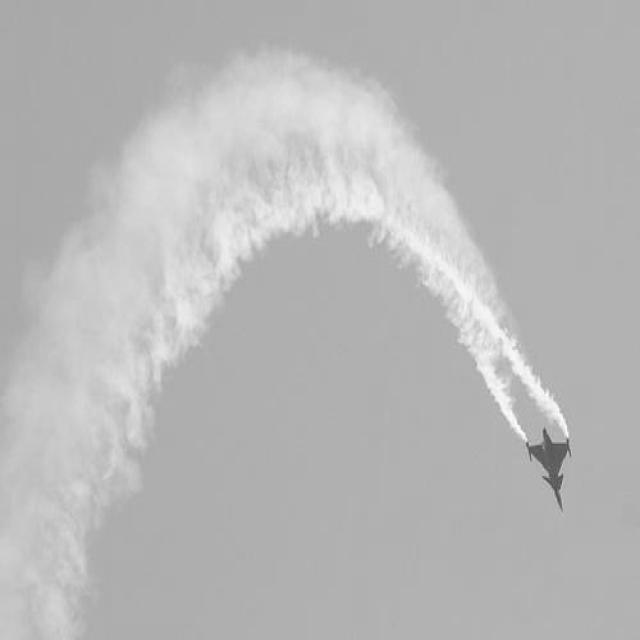aeroplane: (525, 426, 580, 514)
